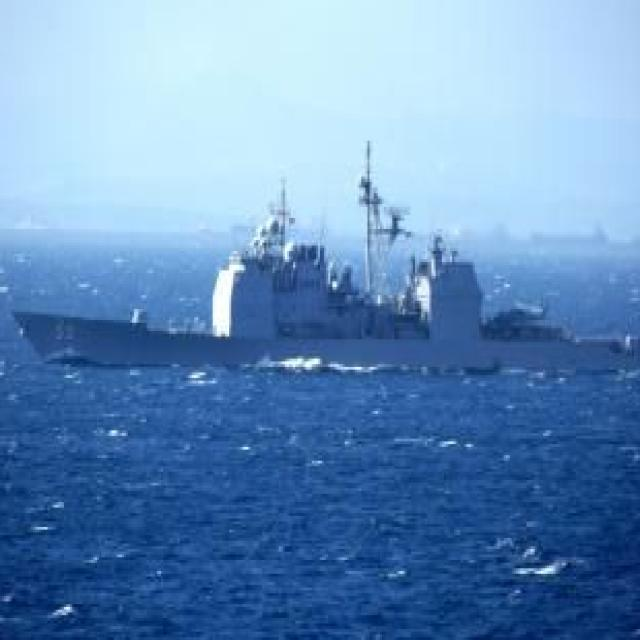navalvessels: (8, 135, 640, 375)
